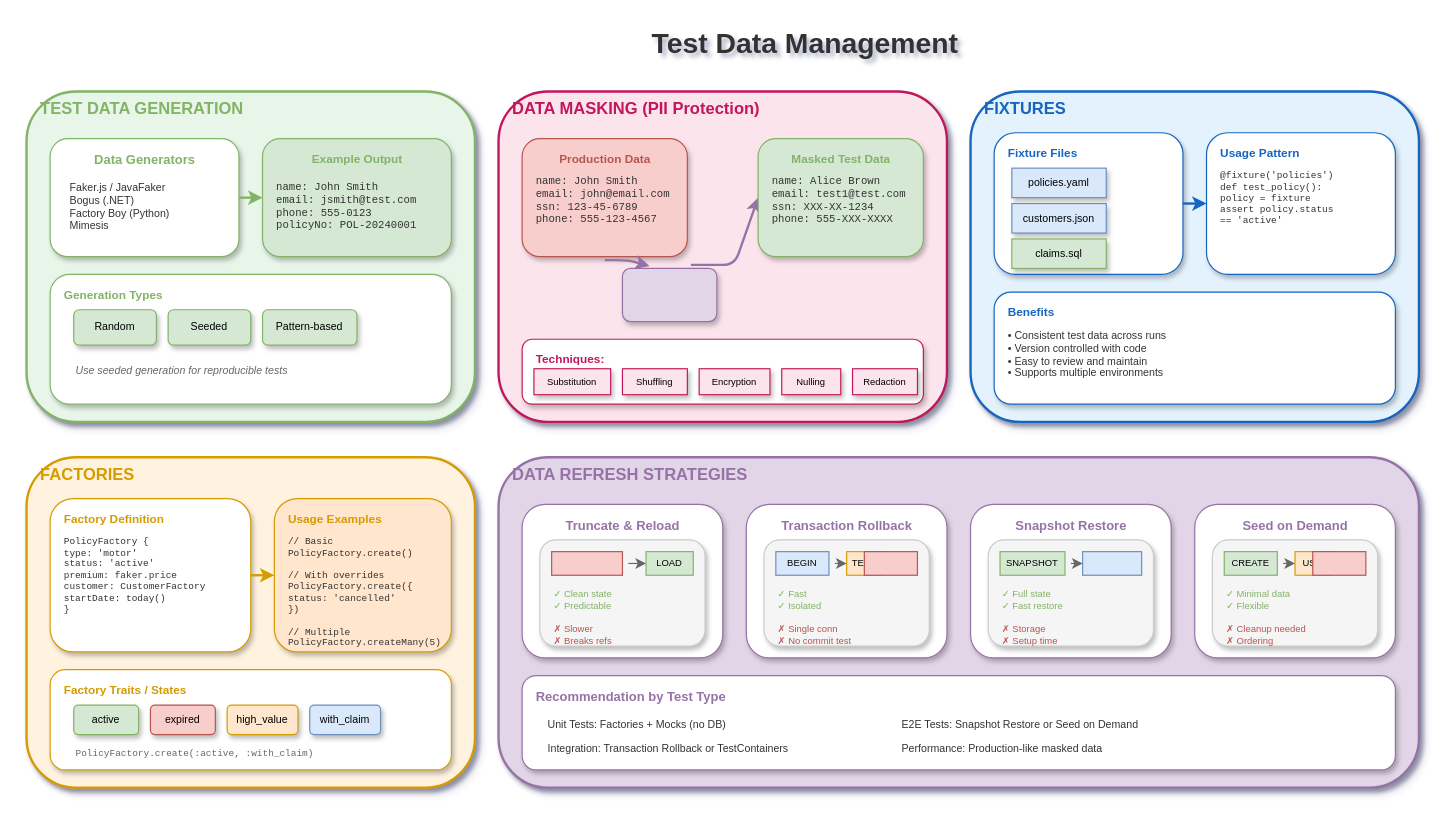
This 1454x824 diagram has some shape labels left out. Here are the shapes that lost their labels. From the top down, the centre of each, then its label:
the point at 670,296: Masking Engine
the point at 586,562: TRUNCATE
the point at 890,562: ROLL
the point at 1111,562: RESTORE
the point at 1339,562: DELETE
